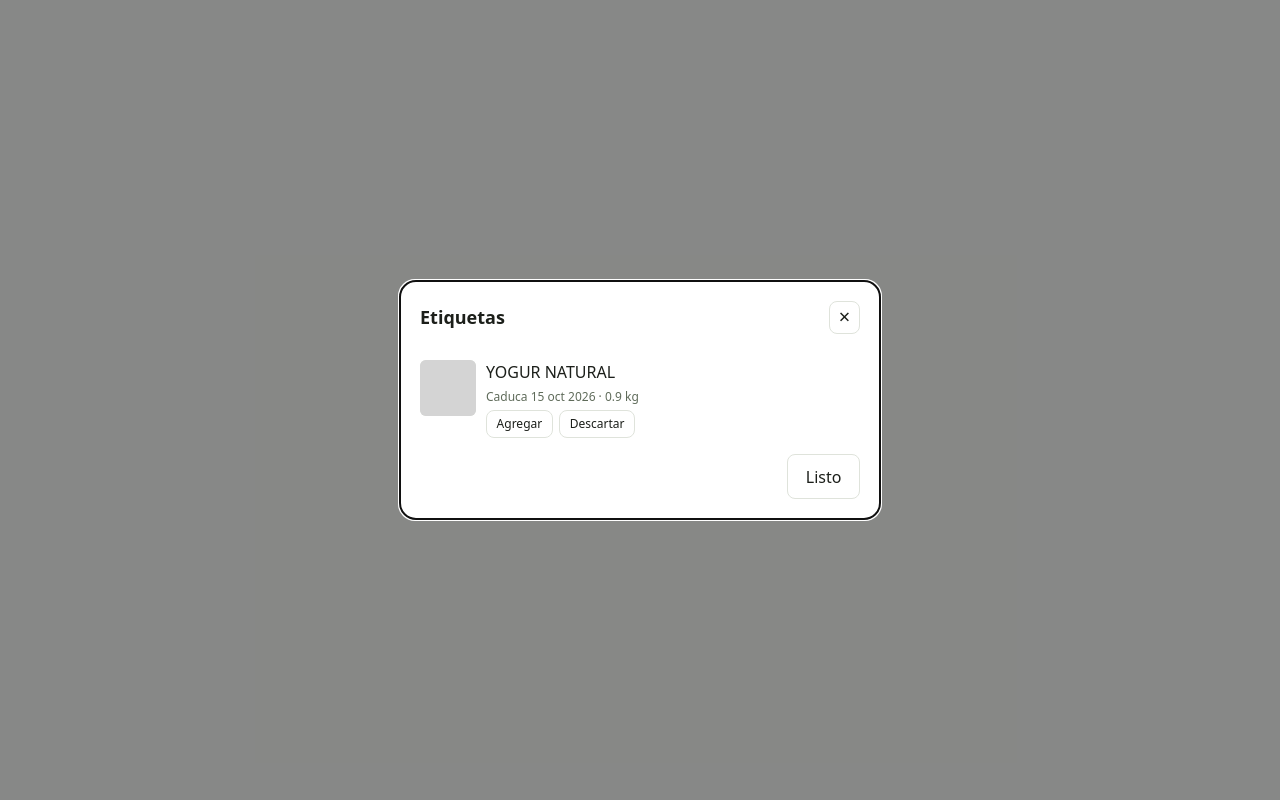
it: LabelQueueDialog adding › reuses a known name’s category and location as soon as the form opens — see #133
Click the button with aria-label "Agregar YOGUR NATURAL" at (519, 424), box [486,410,553,438]
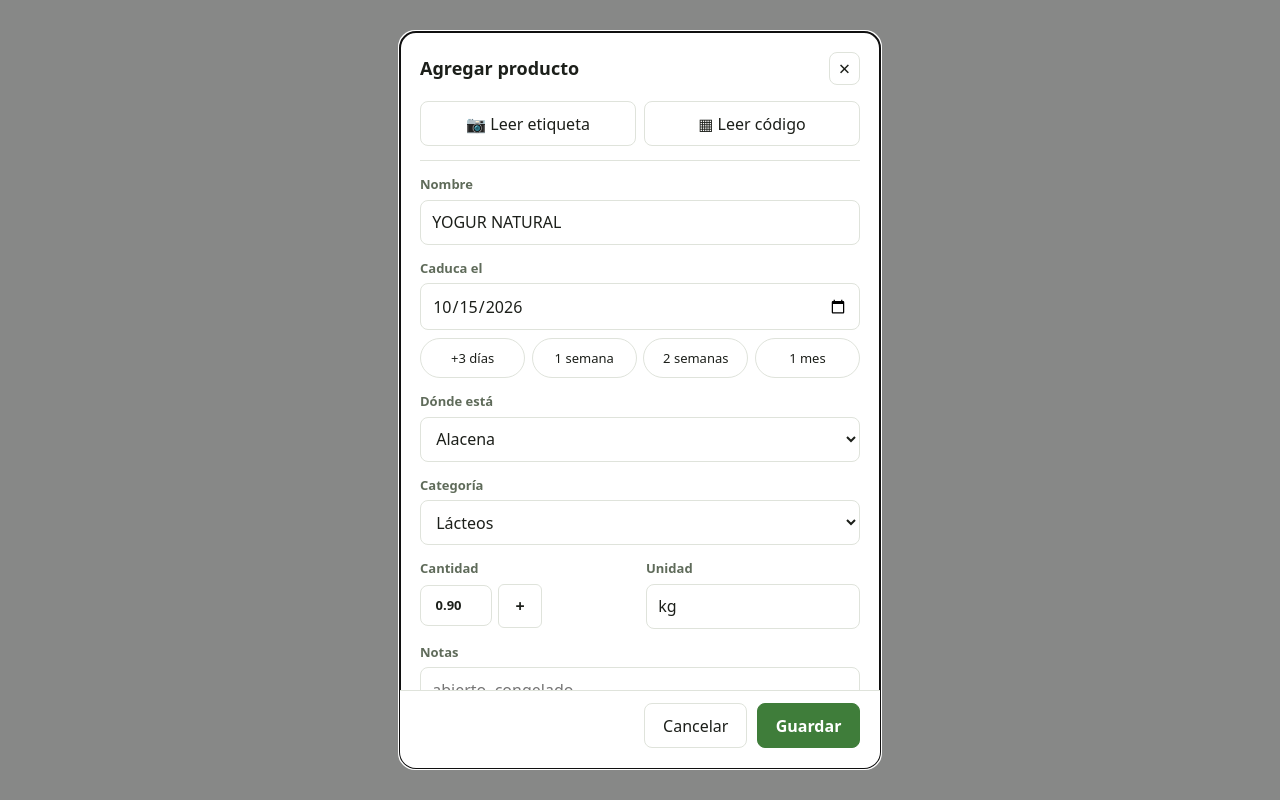
Now the dropdown labelled "Categoría" shows "Lácteos", box [420,500,860,545]
Now the dropdown labelled "Dónde está" shows "Alacena", box [420,417,860,462]
